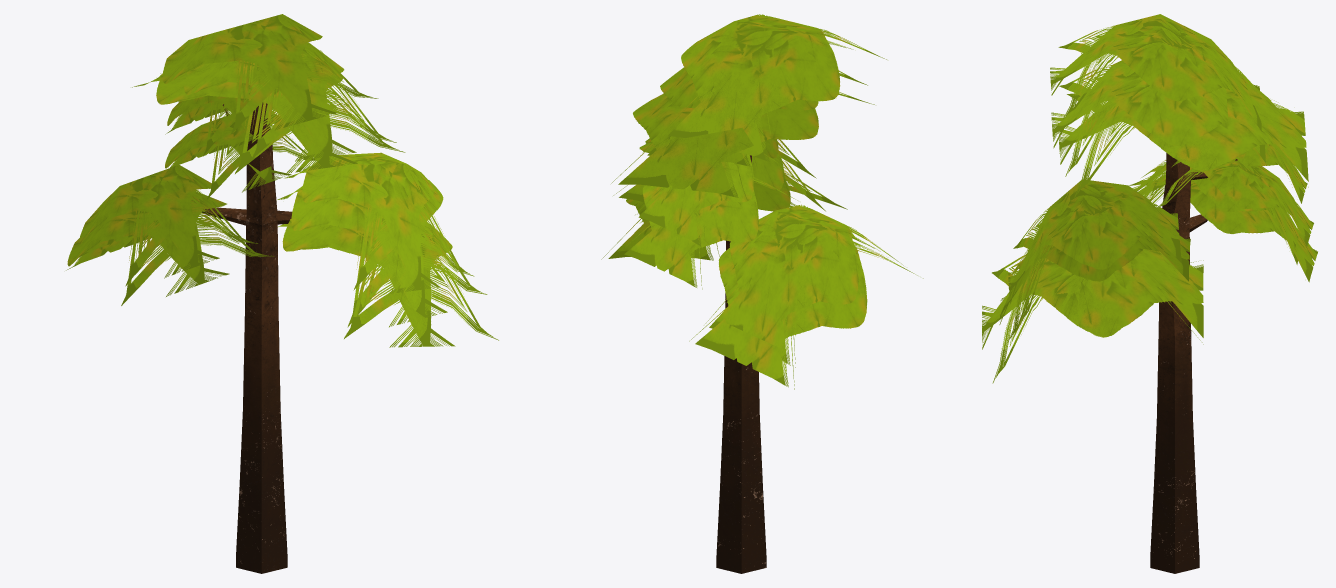
Rendered from Tree_03.fbx.
3 views of the same model, side by side, from view 1: azimuth 30°, elevation 25°; view 2: azimuth 150°, elevation 25°; view 3: azimuth 270°, elevation 25° (orthographic). The views are drawn at different scales.
Visible parts, largest first — view 1: B3; view 2: B3; view 3: B3.
Boxes of the visible parts, <box> form: B3: <box>66,14,498,573</box>; B3: <box>601,14,923,573</box>; B3: <box>982,14,1317,573</box>.
Bounding box in the file's own units: 21.51 × 31.02 × 18.23.
